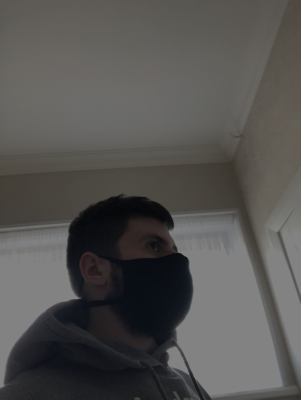with_mask: (115, 231, 193, 336)
